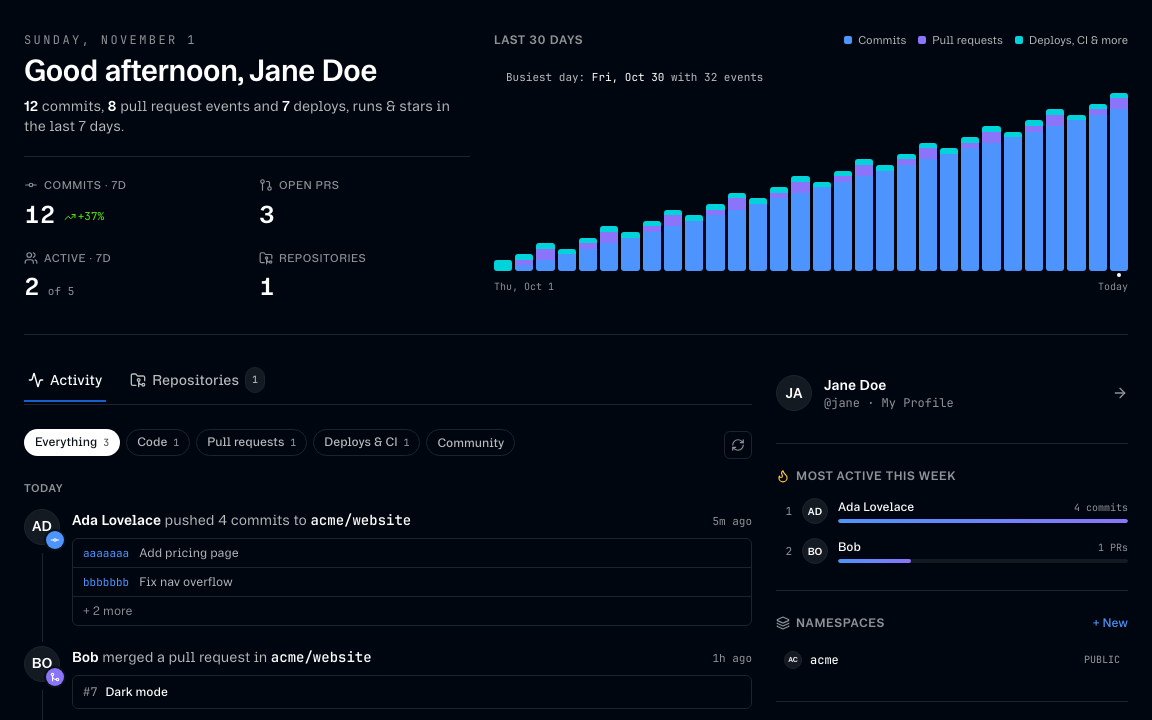
Scenario: Dashboard › switches to repositories from the tab bar
Expected: the text "Add pricing page" is shown, left=139, top=545, right=239, bottom=561
Click the tab "Repositories 1".
click(198, 386)  # box left=126, top=367, right=269, bottom=405
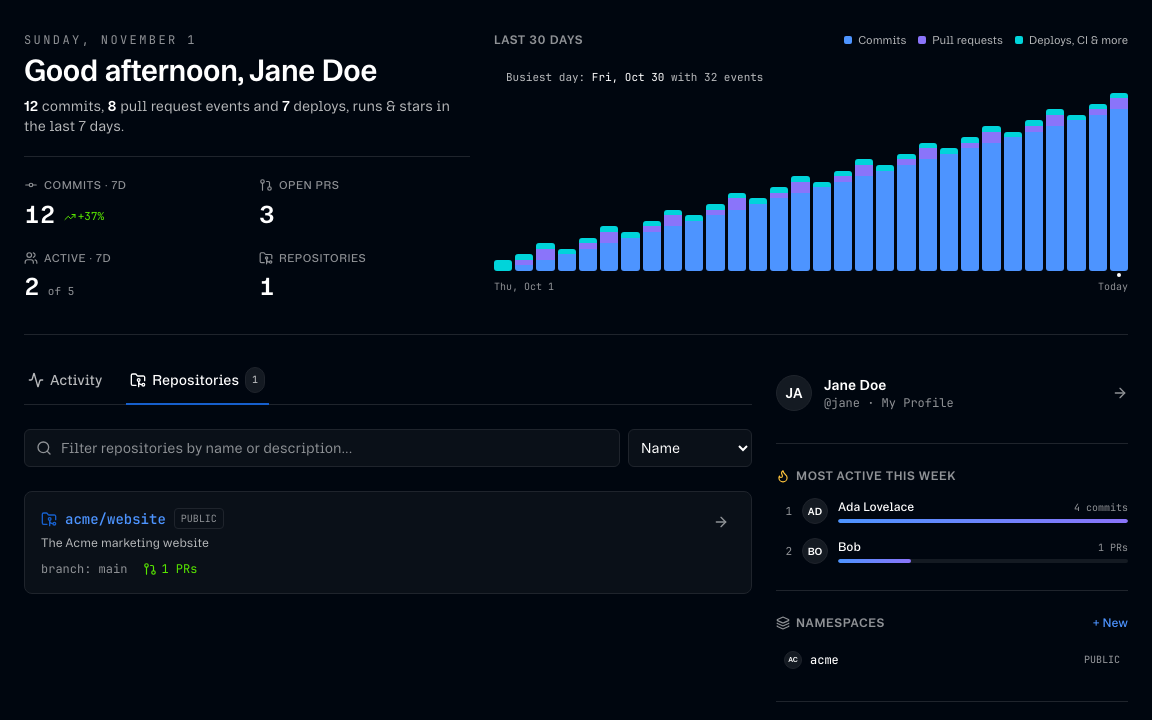
Expected: the field with placeholder "Filter repositories by name or description..." is shown, left=24, top=429, right=620, bottom=467
